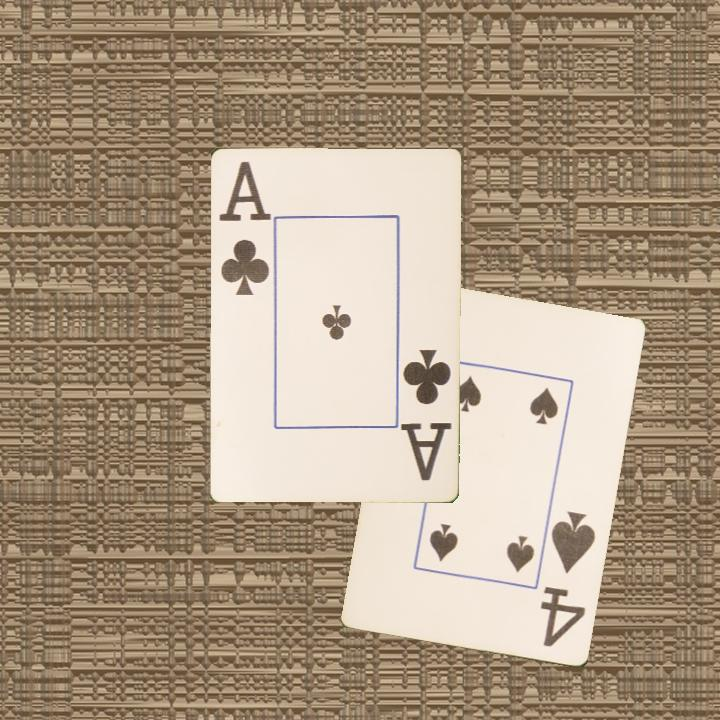4s: (536, 508, 599, 650)
Ac: (214, 157, 271, 298), (398, 345, 454, 484)
